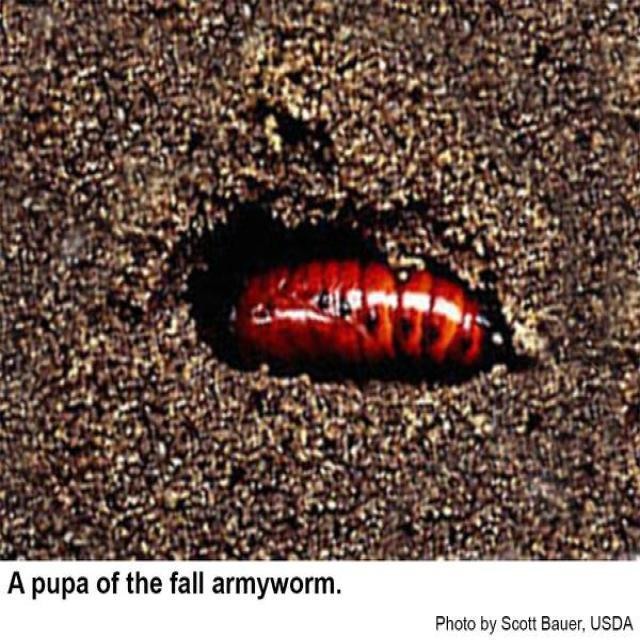army worm: (170, 202, 550, 420)
